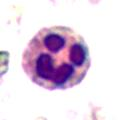neutrophil: (18, 24, 96, 93)
